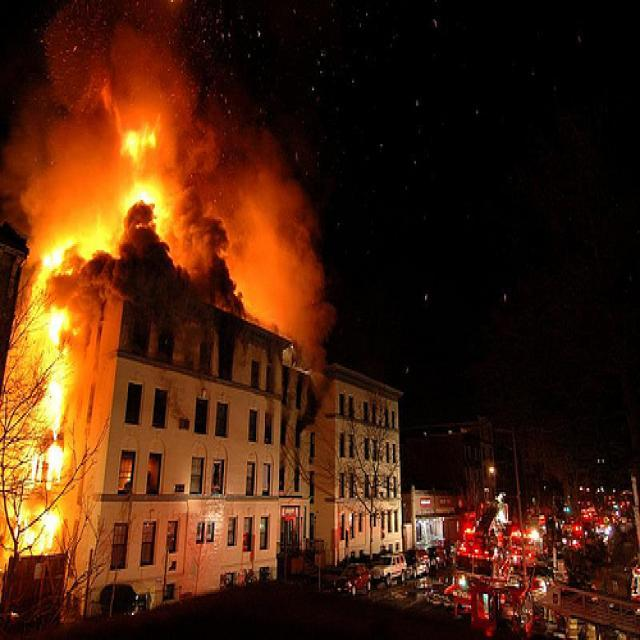Fire: (10, 249, 83, 556), (119, 130, 165, 216)
Smoke: (234, 142, 332, 422), (94, 224, 264, 338)
